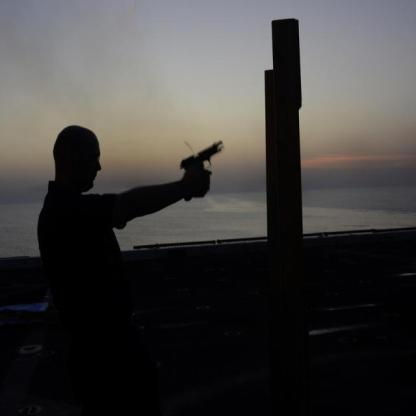weapon: (177, 138, 227, 203)
